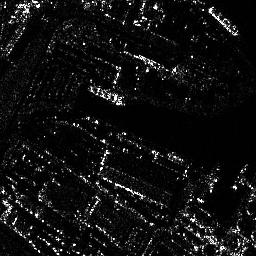ship: (207, 4, 239, 37), (86, 83, 126, 107)
